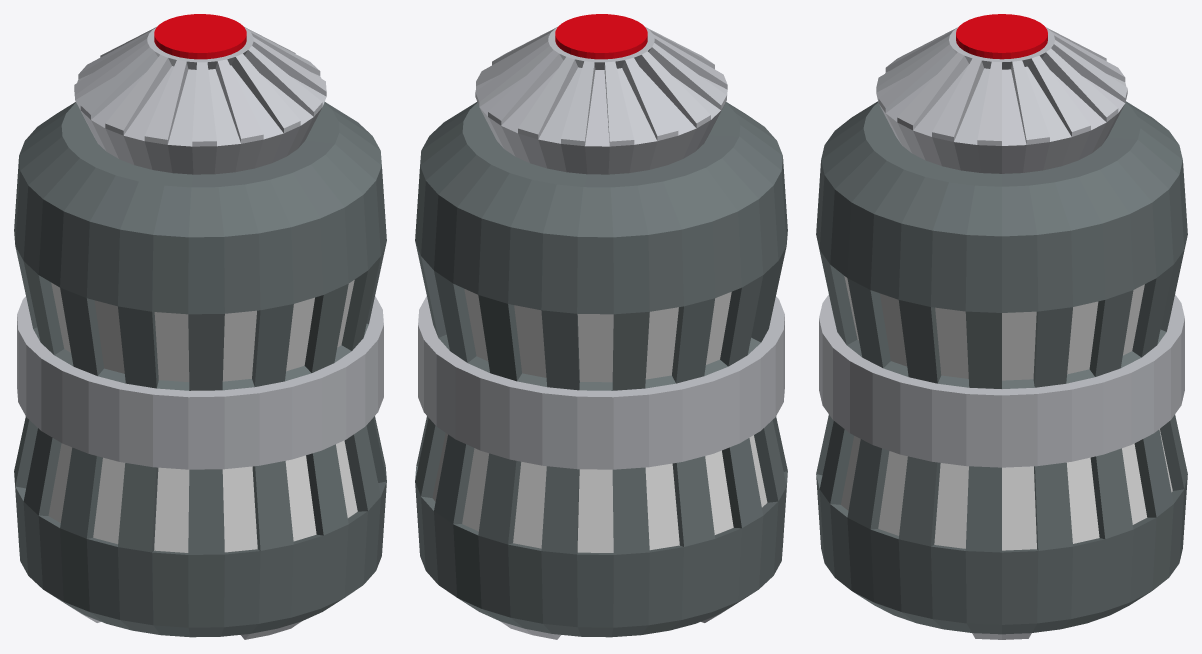
The model's file is grenade (1).fbx.
The picture shows the model from 3 angles, left to right: view 1: azimuth 30°, elevation 25°; view 2: azimuth 150°, elevation 25°; view 3: azimuth 270°, elevation 25°; orthographic projection.
Parts seen in each view (by area): view 1: Cylinder; view 2: Cylinder; view 3: Cylinder.
Part boxes in pixels (x1=…): Cylinder: x1=14, y1=14, x2=386, y2=639; Cylinder: x1=415, y1=14, x2=787, y2=639; Cylinder: x1=816, y1=14, x2=1187, y2=639.
Bounding box in the file's own units: 163 × 265 × 163.
